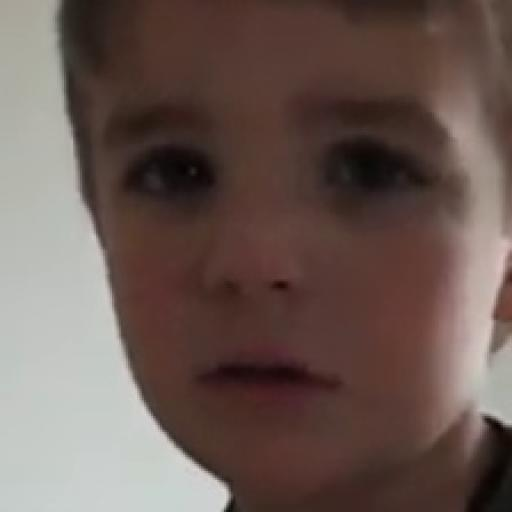Autism: (50, 9, 512, 512)
